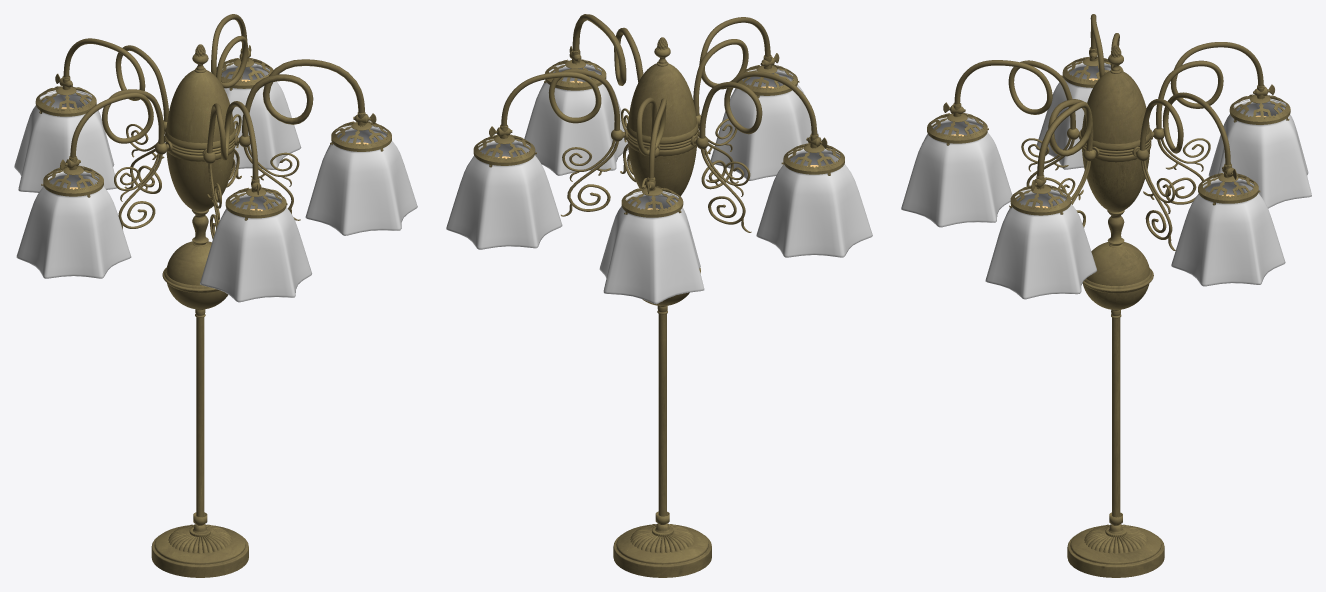
File: Chandelier.glb
The picture shows the model from 3 angles, left to right: view 1: azimuth 30°, elevation 25°; view 2: azimuth 150°, elevation 25°; view 3: azimuth 270°, elevation 25°; orthographic projection.
Parts seen in each view (by area): view 1: globe, globe.004, globe.003, ellipse, globe.001, globe.002, ceiling_mount, gas_tube.003, ball, pole, gas_tube, gas_tube.001 (+14 smaller); view 2: globe, globe.002, globe.001, globe.003, globe.004, ellipse, ceiling_mount, gas_tube.002, gas_tube, pole, gas_tube.004, gas_tube.003 (+11 smaller); view 3: globe.002, globe.004, globe.003, globe.001, ellipse, ball, ceiling_mount, globe, gas_tube.001, gas_tube.004, pole, gas_tube.002 (+13 smaller).
Boxes of the visible parts, box(x1,y1,x2,y2) form: globe: box(16, 170, 131, 278); globe.004: box(200, 192, 311, 302); globe.003: box(305, 125, 417, 235); ellipse: box(166, 70, 234, 211); globe.001: box(14, 90, 117, 192); globe.002: box(221, 62, 301, 169); ceiling_mount: box(151, 525, 248, 577); gas_tube.003: box(242, 59, 364, 136); ball: box(166, 241, 227, 309); pole: box(196, 317, 204, 516); gas_tube: box(70, 89, 164, 157); gas_tube.001: box(63, 38, 168, 121); globe: box(756, 147, 872, 257); globe.002: box(446, 139, 562, 249); globe.001: box(599, 191, 704, 304); globe.003: box(524, 64, 628, 175); globe.004: box(710, 69, 818, 180); ellipse: box(628, 63, 696, 196); ceiling_mount: box(613, 525, 711, 577); gas_tube.002: box(501, 69, 620, 130); gas_tube: box(699, 71, 817, 138); pole: box(658, 314, 666, 516); gas_tube.004: box(693, 17, 770, 115); gas_tube.003: box(572, 14, 643, 85); globe.002: box(1171, 177, 1285, 286); globe.004: box(901, 117, 1012, 227); globe.003: box(985, 189, 1097, 299); globe.001: box(1208, 98, 1311, 208); ellipse: box(1082, 71, 1149, 212); ball: box(1082, 242, 1149, 309); ceiling_mount: box(1067, 525, 1164, 577); globe: box(1035, 61, 1110, 169); gas_tube.001: box(1156, 42, 1263, 129); gas_tube.004: box(954, 60, 1075, 129); pole: box(1112, 317, 1120, 516); gas_tube.002: box(1140, 92, 1230, 165).
Size of the model in its own units: 0.8221 by 1.14 by 0.83.
4 materials, 2 textured.
